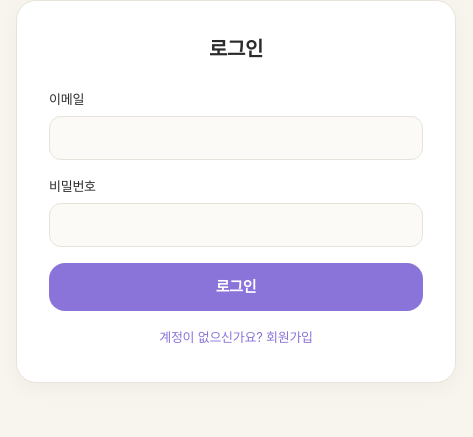
Test: AuthForm › shows an error banner when login fails
The width and height of the screenshot is (473, 437).
Type "user@example.com" into the field labelled "이메일". click: x=236, y=138
box: [49, 116, 423, 160]
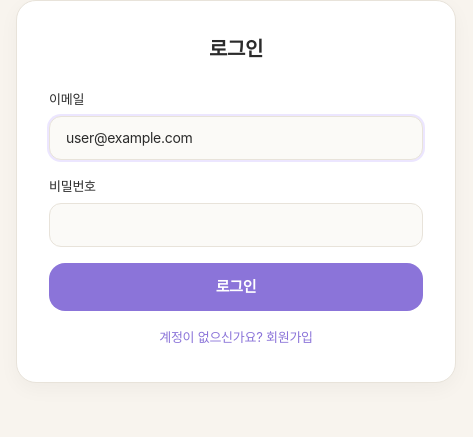
Type "wrong-password" into the password field labelled "비밀번호". click: x=236, y=225
box: [49, 203, 423, 247]
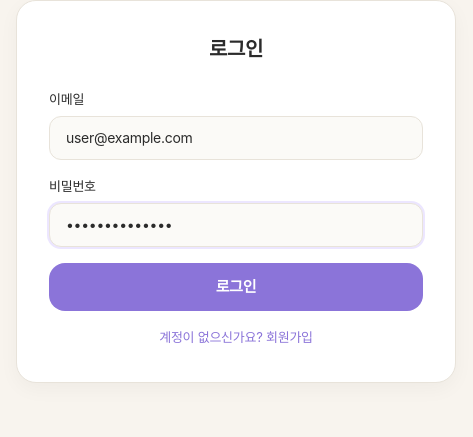
Click the button "로그인". click: x=236, y=287
box: [49, 263, 423, 311]
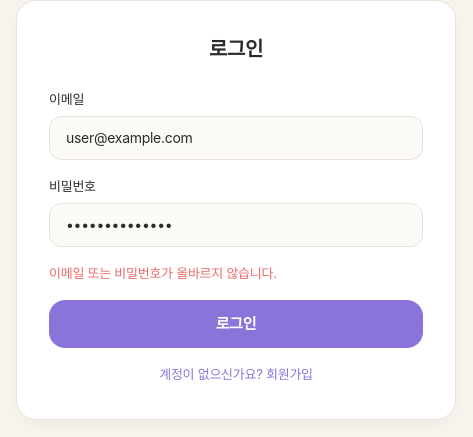
Now the message reads "이메일 또는 비밀번호가 올바르지 않습니다.", box [49, 265, 277, 281]
